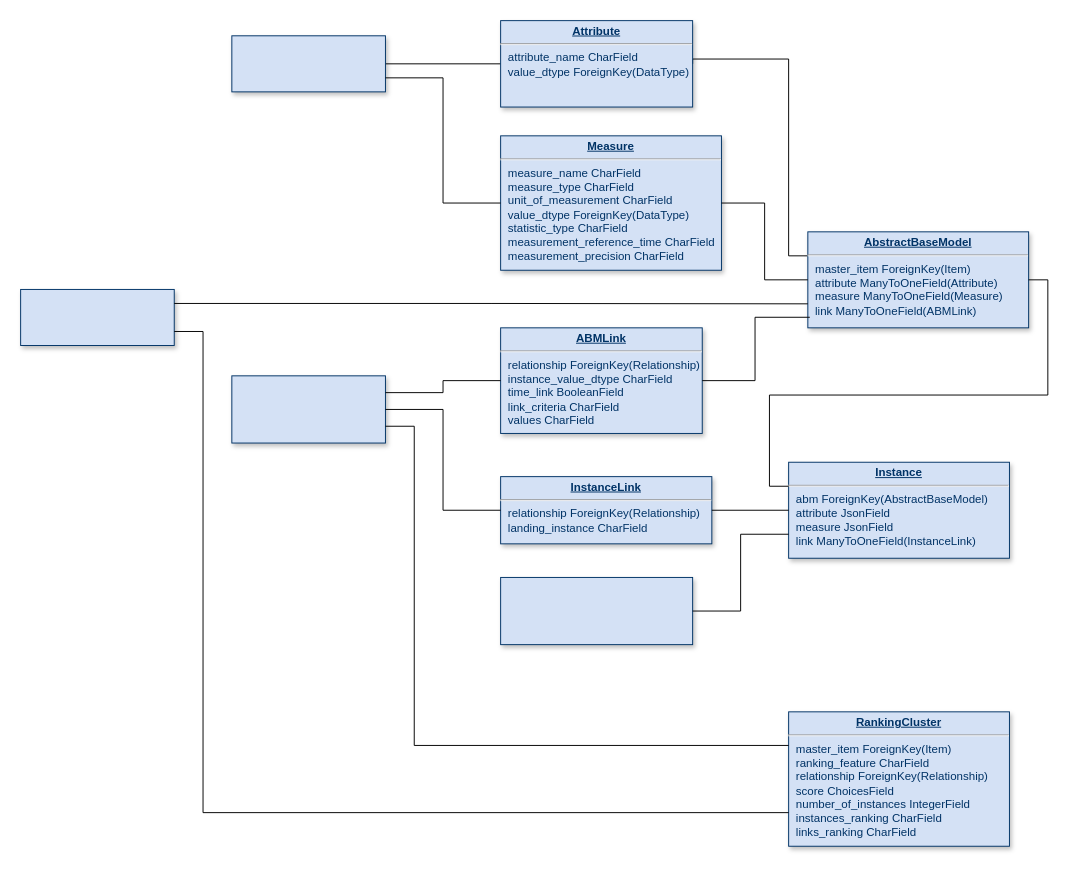
The diagram is 1066 pixels wide and 870 high, and some of its shapes have lost their labels. The shapes that lost their labels are listed below. From the top down, each one's centre as x and y in pixels, then its label:
At pixel 309 65: "DataType Name CharField".
At pixel 98 318: "Item Name CharField".
At pixel 309 410: "Relationship item ManyToOneField(Item) relationship_str CharField".
At pixel 597 612: "IncomingInteractionLink relationship CharField origin_instance CharField".
